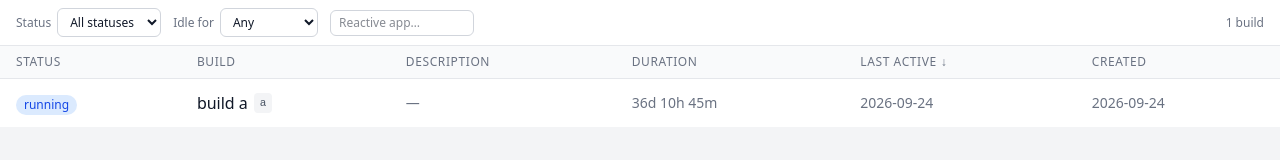
BuildsList idle filter › sends idle_for_seconds and blocks the statuses the server refuses
This screenshot has width=1280, height=160.
Expected: the button "build a" is shown, [197, 91, 248, 115]
Select "≥ 24 hours" in the dropdown named "Filter by time since last activity" at (269, 22), box [220, 8, 318, 37]
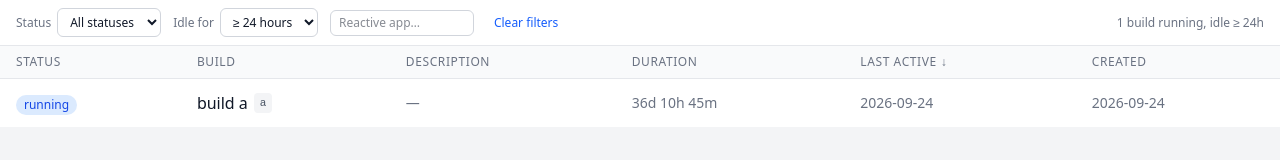
Now the text "1 build running, idle ≥ 24h" is shown, box [1117, 14, 1264, 30]
